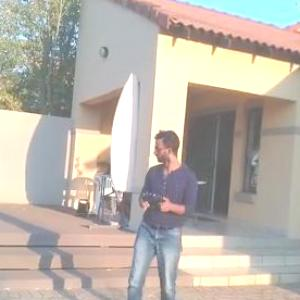follow: (116, 127, 200, 299)
